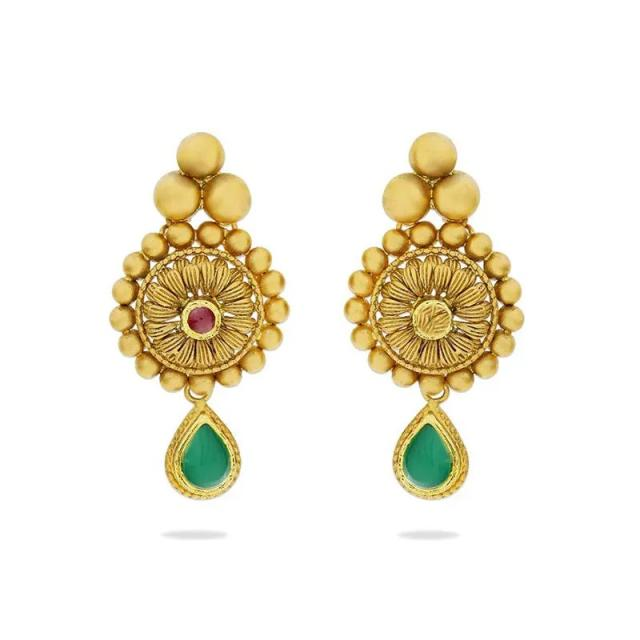missing gem: (417, 304, 449, 336)
